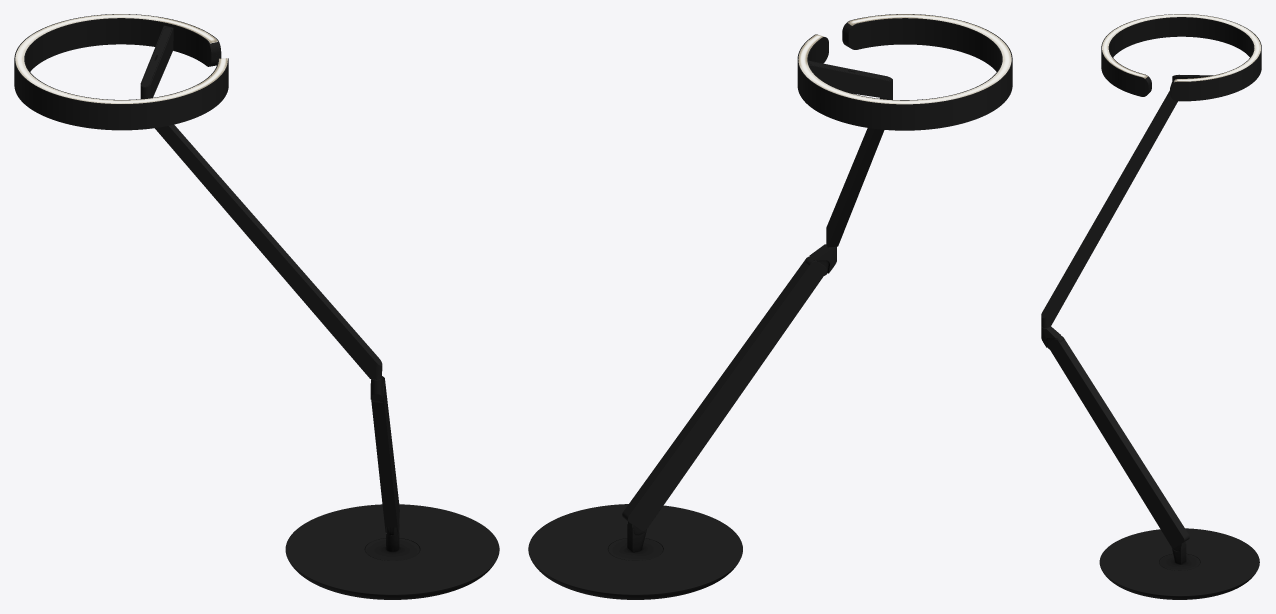
The model's file is Asset4.glb.
3 views of the same model, side by side, from view 1: azimuth 30°, elevation 25°; view 2: azimuth 150°, elevation 25°; view 3: azimuth 270°, elevation 25° (orthographic). The views are drawn at different scales.
Visible parts, largest first — view 1: base, headBrushed, body02, headLedUp, body01, headGlossy, forkLid, baseCenter; view 2: base, headBrushed, body01, headLedUp, body02, forkLid, baseCenter, headGlossy; view 3: base, headBrushed, body01, body02, headLedUp, headGlossy, baseCenter.
Boxes of the visible parts, bbox=[...] form: base: bbox=[285, 504, 499, 599]; headBrushed: bbox=[14, 18, 228, 130]; body02: bbox=[155, 124, 382, 379]; headLedUp: bbox=[15, 14, 227, 103]; body01: bbox=[371, 378, 399, 532]; headGlossy: bbox=[14, 14, 228, 104]; forkLid: bbox=[140, 25, 173, 98]; baseCenter: bbox=[365, 524, 419, 560]; base: bbox=[528, 504, 742, 599]; headBrushed: bbox=[797, 18, 1012, 130]; body01: bbox=[622, 256, 826, 530]; headLedUp: bbox=[798, 14, 1011, 104]; body02: bbox=[826, 96, 892, 247]; forkLid: bbox=[808, 60, 892, 98]; baseCenter: bbox=[608, 522, 662, 560]; headGlossy: bbox=[797, 14, 1012, 104]; base: bbox=[1099, 528, 1259, 599]; headBrushed: bbox=[1101, 17, 1261, 101]; body01: bbox=[1048, 336, 1189, 547]; body02: bbox=[1041, 90, 1177, 327]; headLedUp: bbox=[1102, 14, 1260, 82]; headGlossy: bbox=[1101, 14, 1261, 94]; baseCenter: bbox=[1159, 541, 1199, 570].
Size of the model in its own units: 0.7357 by 0.8752 by 0.4125.
11 materials, 9 textured.
